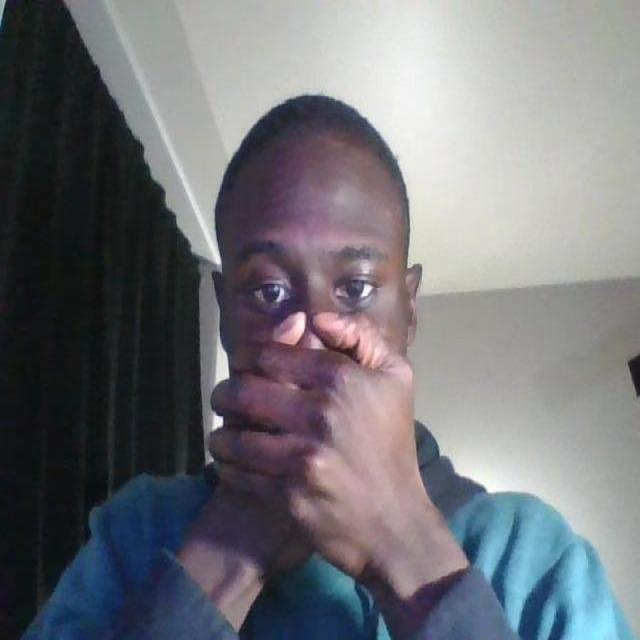no-helmet: (215, 170, 410, 378)
